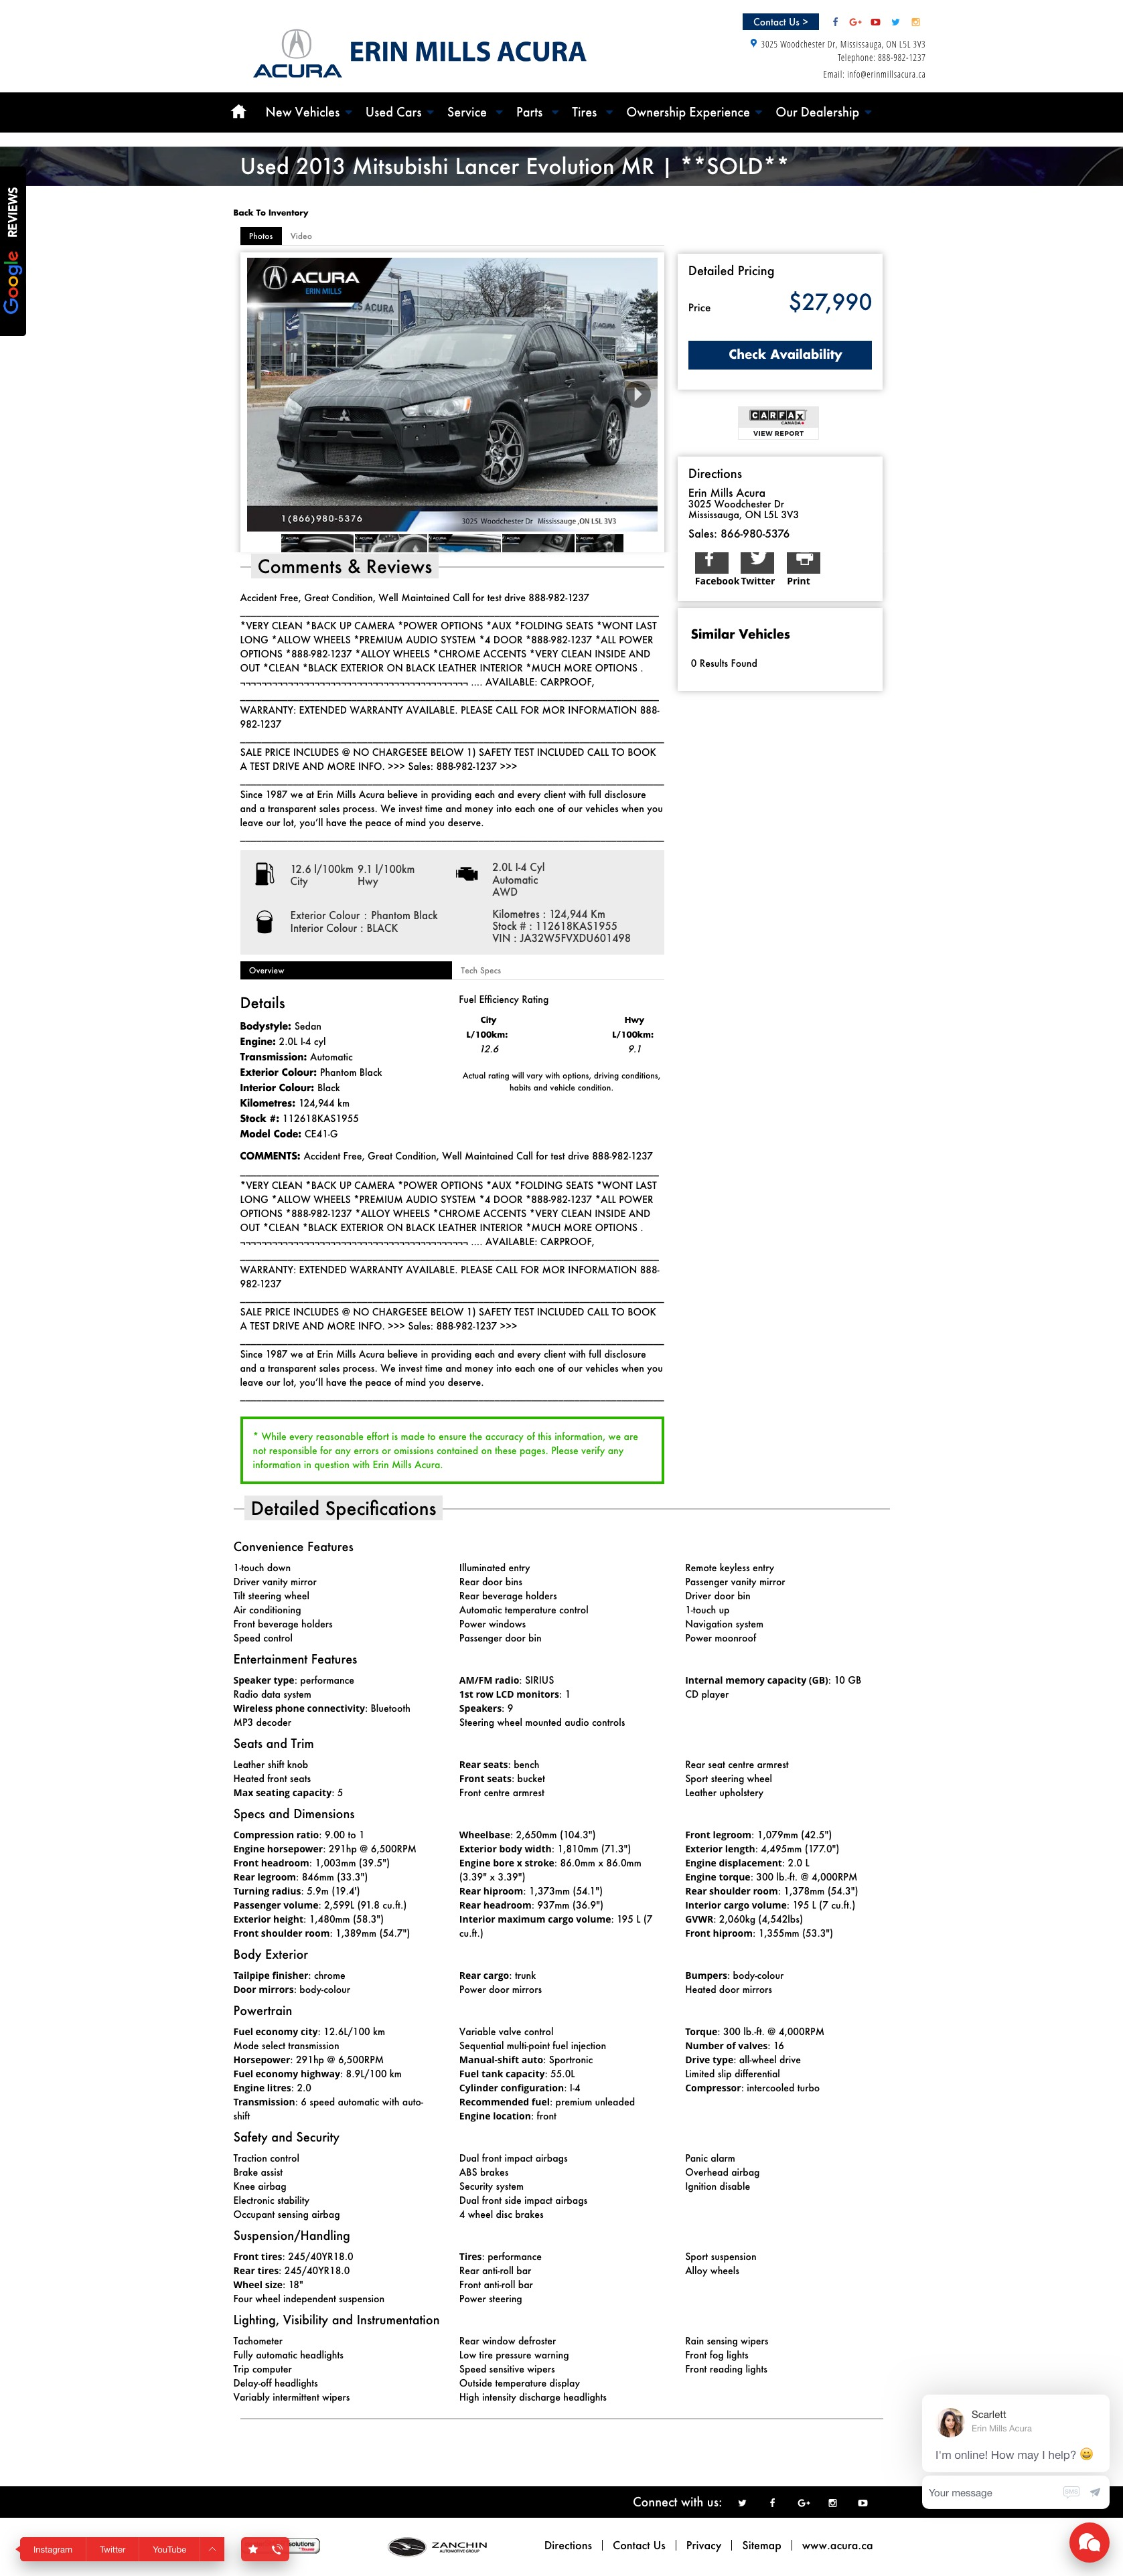car: (635, 388, 643, 401)
